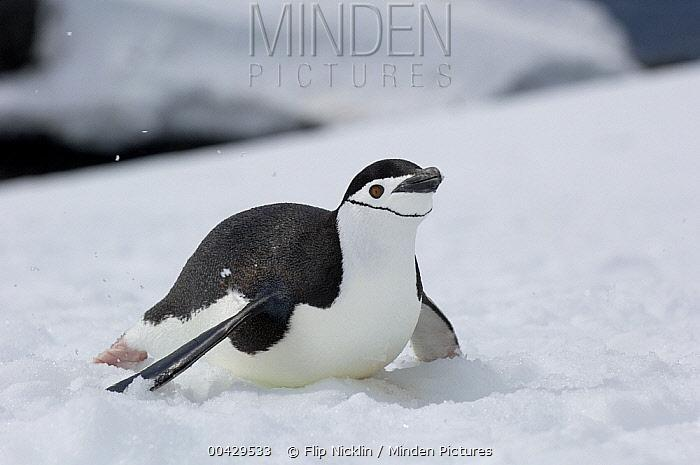Penguin: (94, 159, 459, 391)
